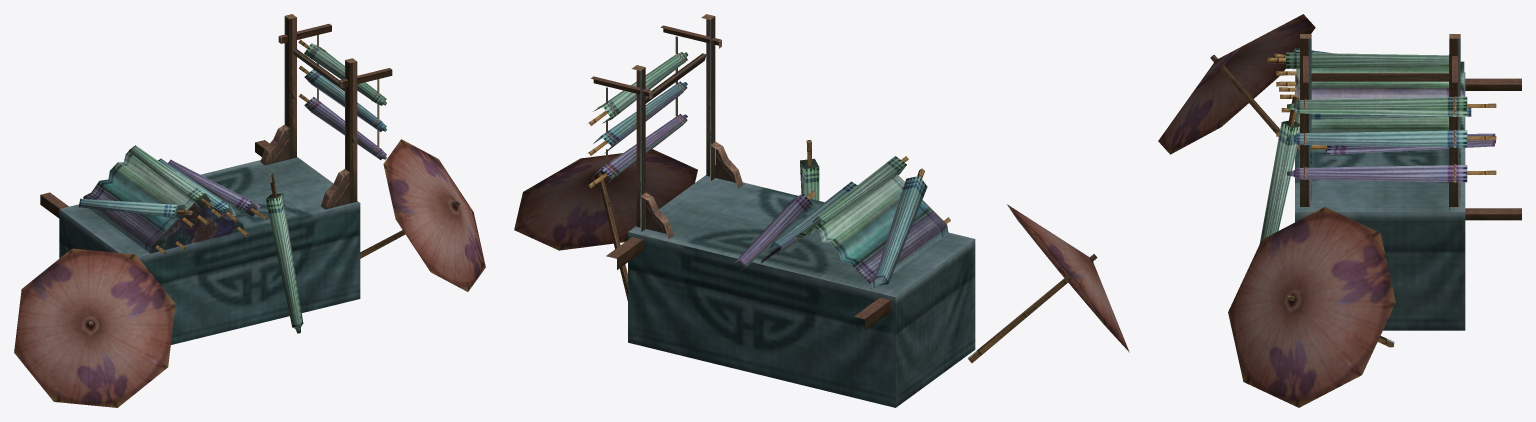
File: zc_suzhou_tanwei02.FBX
3 renders of one model, left to right at view 1: azimuth 30°, elevation 25°; view 2: azimuth 150°, elevation 25°; view 3: azimuth 270°, elevation 25°, orthographic. The views are drawn at different scales.
Parts seen in each view (by area): view 1: zc_suzhou_tanwei02; view 2: zc_suzhou_tanwei02; view 3: zc_suzhou_tanwei02.
Part boxes in pixels (<box>): zc_suzhou_tanwei02: <box>14,14,485,407</box>; zc_suzhou_tanwei02: <box>514,14,1129,407</box>; zc_suzhou_tanwei02: <box>1158,14,1521,407</box>.
Size of the model in its own units: 420 by 196 by 218.
1 material, 1 textured.
